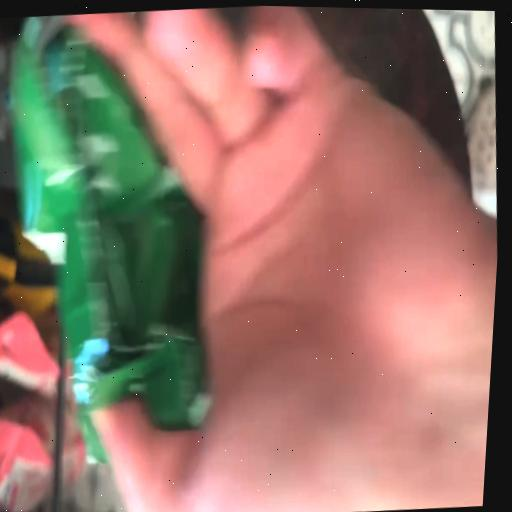cafe_xay: (10, 17, 210, 460)
